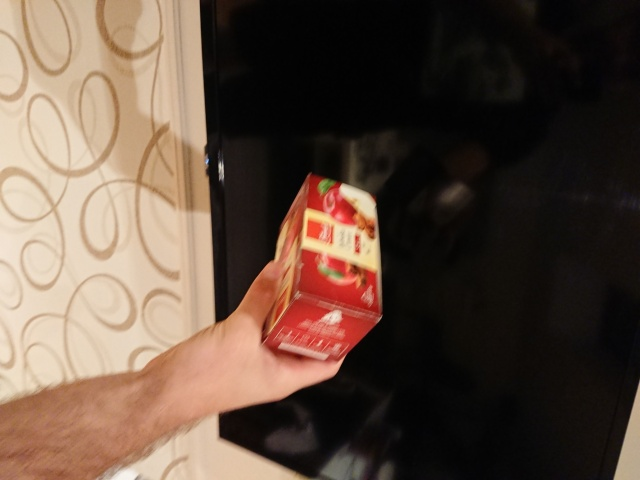Franck Apple Cinnamon Tea 60g: (257, 170, 386, 367)
